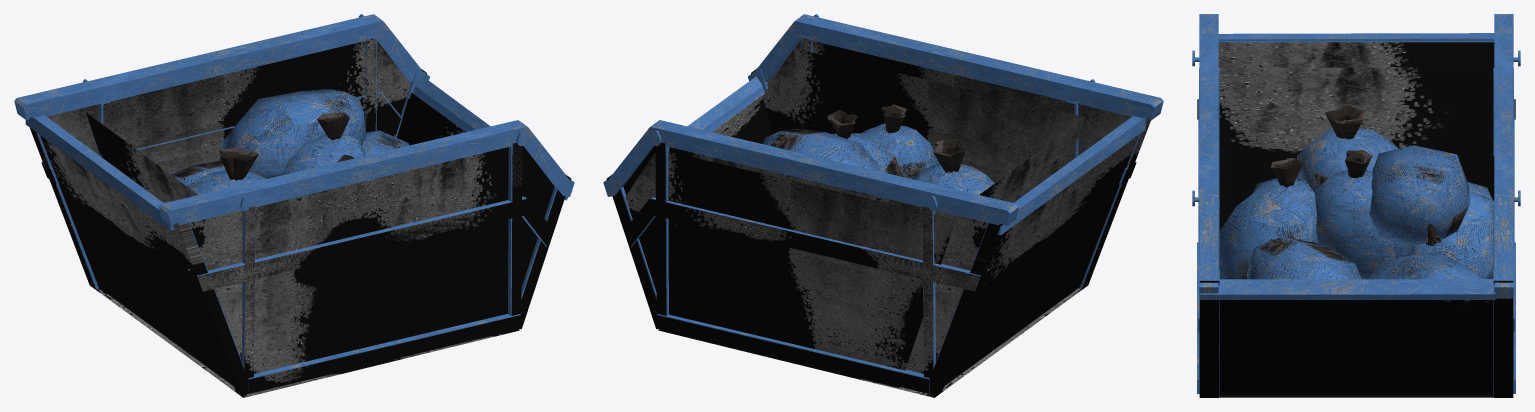
The model's file is Dumpster.fbx.
3 views of the same model, side by side, from view 1: azimuth 30°, elevation 25°; view 2: azimuth 150°, elevation 25°; view 3: azimuth 270°, elevation 25° (orthographic). The views are drawn at different scales.
Visible parts, largest first — view 1: Group1; view 2: Group1; view 3: Group1.
Boxes of the visible parts, left/top/right/bottom form: Group1: left=14, top=14, right=574, bottom=397; Group1: left=603, top=14, right=1163, bottom=397; Group1: left=1192, top=14, right=1520, bottom=397.
Size of the model in its own units: 3.35 by 1.62 by 2.3.
